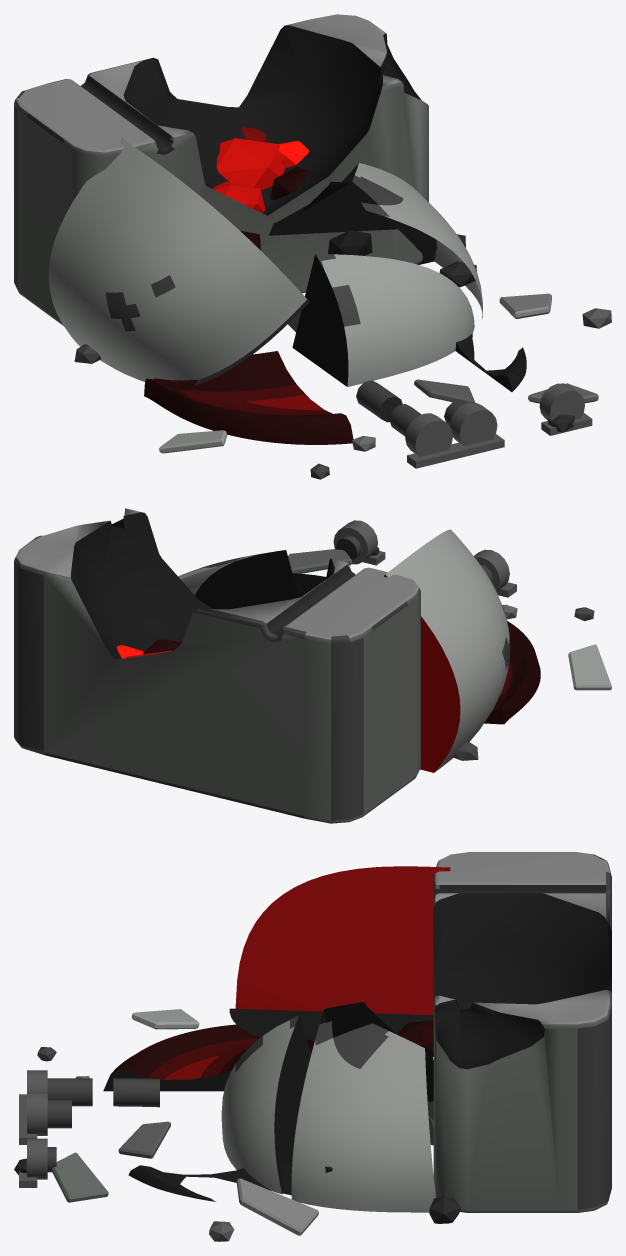
File: vent_dome_wreck.glb
The picture shows the model from 3 angles, top to bottom: view 1: azimuth 30°, elevation 25°; view 2: azimuth 150°, elevation 25°; view 3: azimuth 270°, elevation 25°; orthographic projection. The views are drawn at different scales.
Parts seen in each view (by area): view 1: head, shield, shield_r, vent, shield_rb, ember1, flange0, flange1, flange2, vent_right, pipe_left1, plate2 (+6 smaller); view 2: head, shield, shield_rb, vent, plate2, plate1, flange2, flange0, shield_r; view 3: head, shield, shield_rb, shield_r, vent, plate0, vent_right, plate1, pipe_left1, plate3, pipe_left0, plate2 (+5 smaller).
Part boxes in pixels (x1,y1,x2,y2): head: (14,14,428,325); shield: (49,138,309,385); shield_r: (292,253,474,386); vent: (144,351,353,444); shield_rb: (269,163,482,331); ember1: (216,138,285,189); flange0: (405,413,452,456); flange1: (449,402,497,446); flange2: (539,383,584,420); vent_right: (455,333,526,391); pipe_left1: (356,380,402,422); plate2: (159,430,227,453); head: (14,508,420,823); shield: (384,529,510,772); shield_rb: (178,550,298,609); vent: (484,621,540,724); plate2: (568,644,611,690); plate1: (288,549,352,573); flange2: (333,520,377,564); flange0: (474,549,509,591); shield_r: (292,573,326,597); head: (433,852,611,1212); shield: (229,866,450,1040); shield_rb: (291,1002,435,1212); shield_r: (221,1015,311,1193); vent: (103,1024,314,1091); plate0: (236,1178,318,1235); vent_right: (128,1162,291,1201); plate1: (51,1152,108,1202); pipe_left1: (113,1078,159,1107); plate3: (118,1121,170,1158); pipe_left0: (47,1078,92,1106); plate2: (131,1009,199,1029).
Bounding box in the file's own units: 21.28 × 8.37 × 23.15.
